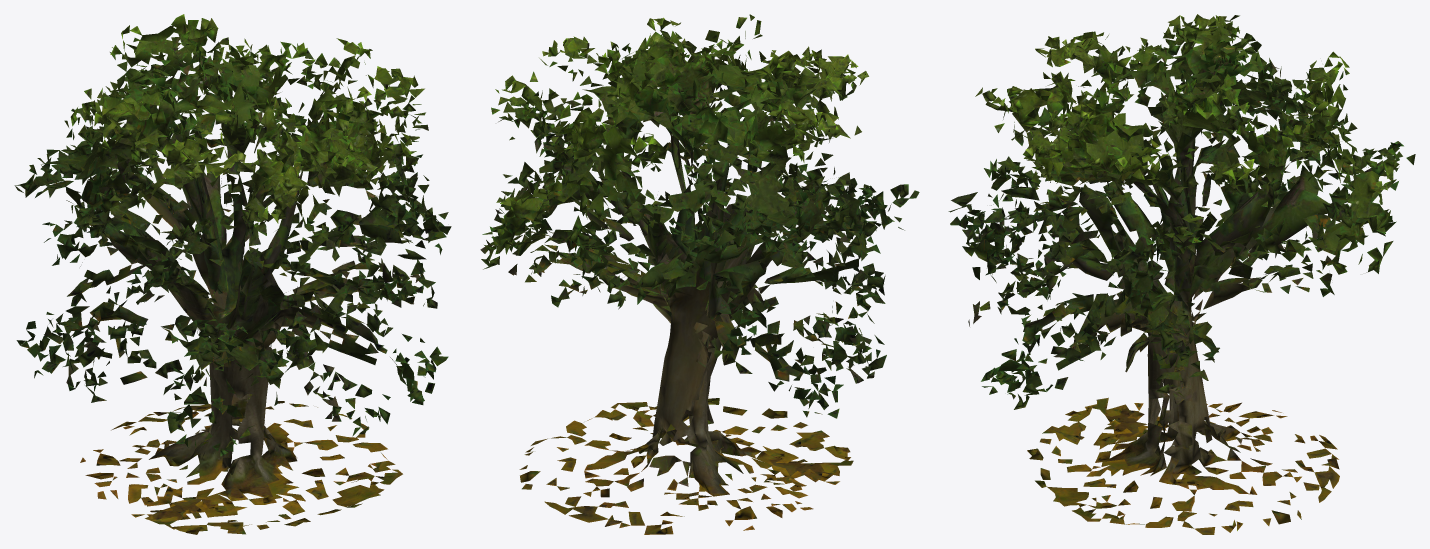
The model's file is 7505efee-cae5-4210-b764-de3465e7338d.glb.
3 views of the same model, side by side, from view 1: azimuth 30°, elevation 25°; view 2: azimuth 150°, elevation 25°; view 3: azimuth 270°, elevation 25° (orthographic).
Size of the model in its own units: 1.83 by 1.92 by 1.96.
Materials: 1 (1 with a texture image).
